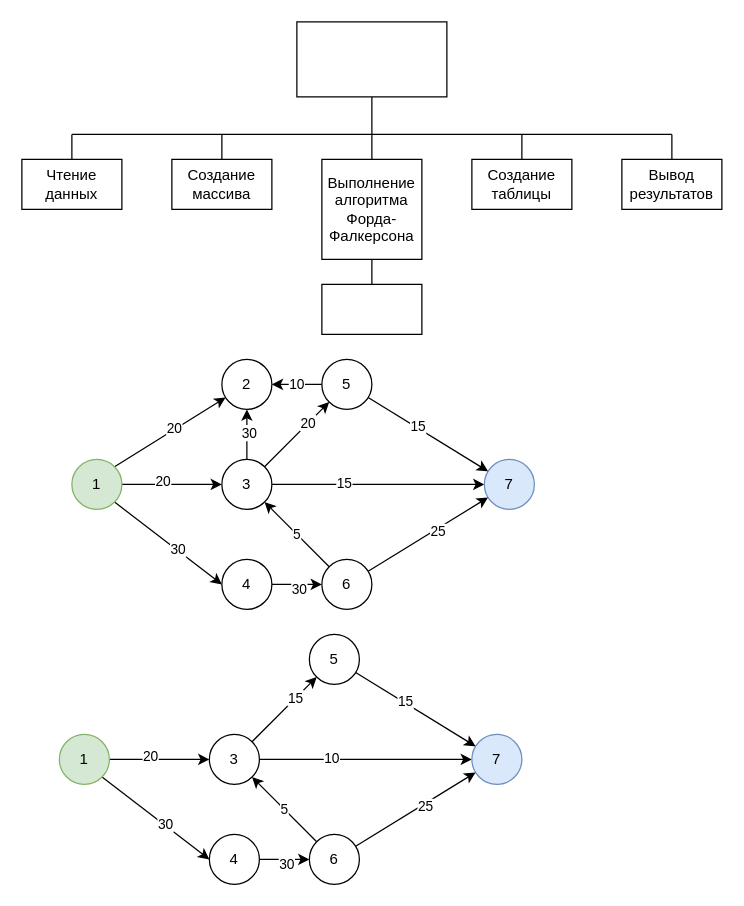
This 744x906 diagram has some shape labels left out. Here are the shapes that lost their labels. From the top down, the centre of each, then its label:
At [371,59]: "Программный комплекс".
At [371,308]: "Изменение массива".
